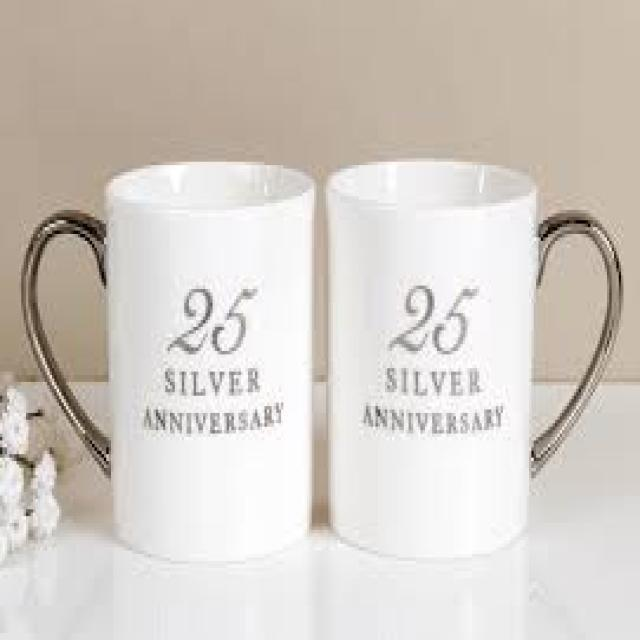taza: (324, 154, 628, 568), (18, 155, 318, 556)
